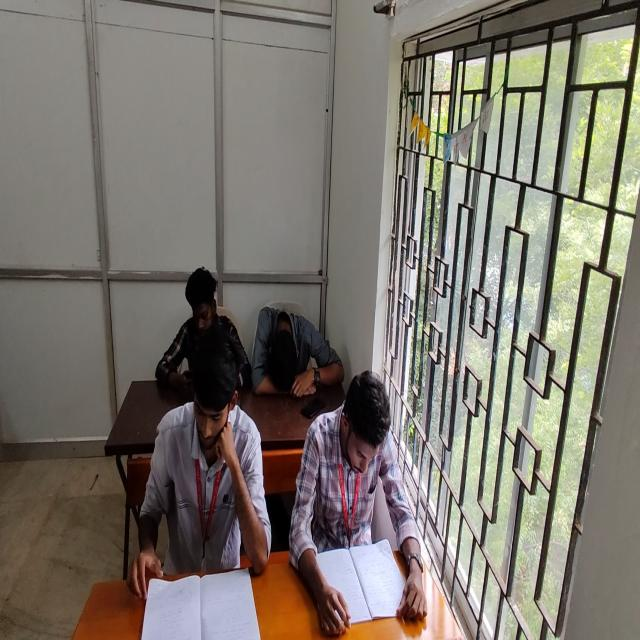reading: (128, 323, 273, 603), (309, 370, 432, 639)
sleeping: (250, 305, 342, 398)
using_mobile: (156, 266, 252, 393)
